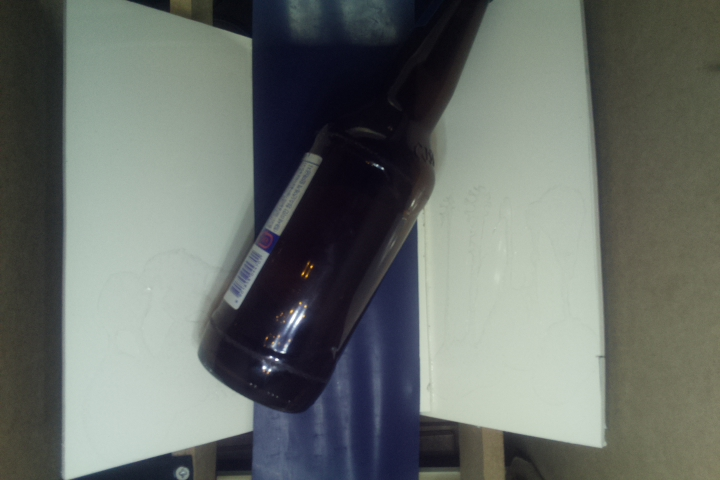makju: (188, 1, 493, 413)
